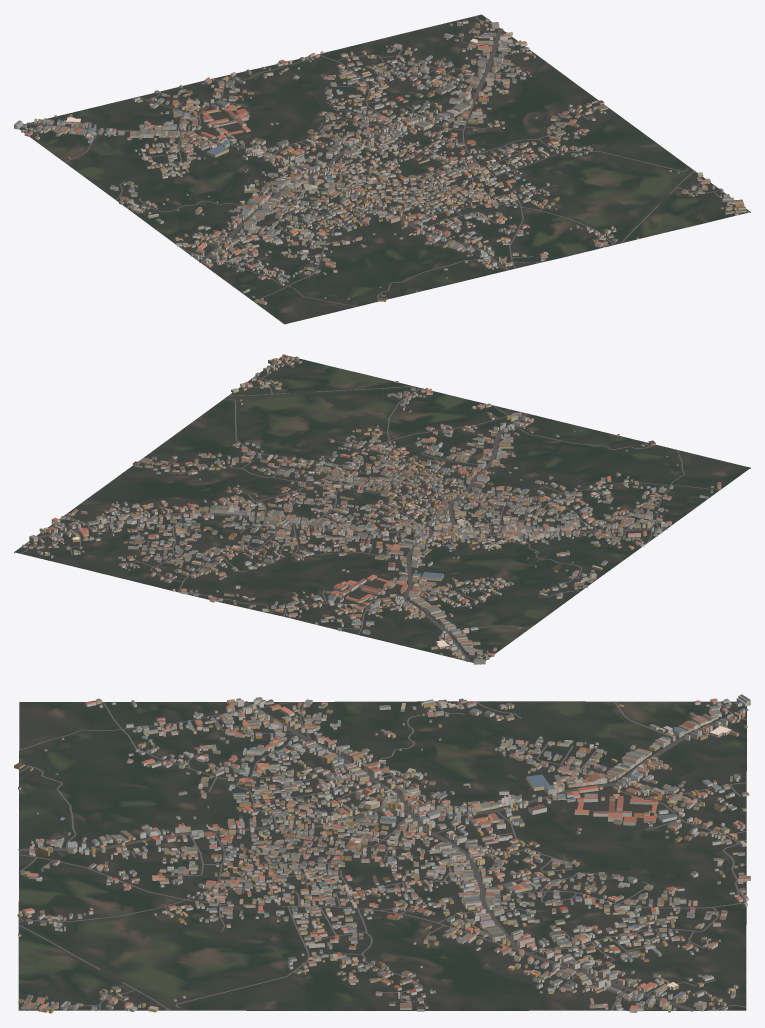
3 renders of one model, top to bottom at view 1: azimuth 30°, elevation 25°; view 2: azimuth 150°, elevation 25°; view 3: azimuth 270°, elevation 25°, orthographic. The views are drawn at different scales.
Parts seen in each view (by area): view 1: ground, buildings, roads; view 2: ground, buildings, roads; view 3: ground, buildings, roads.
Part boxes in pixels (x1,y1,x2,y2): ground: (19,14,750,324); buildings: (14,18,746,304); roads: (27,15,749,306); ground: (14,356,750,664); buildings: (22,354,721,664); roads: (19,373,719,661); ground: (18,701,746,1010); buildings: (14,694,750,1013); roads: (18,701,748,1011).
Bounding box in the file's own units: 1420 × 21.54 × 1420.
